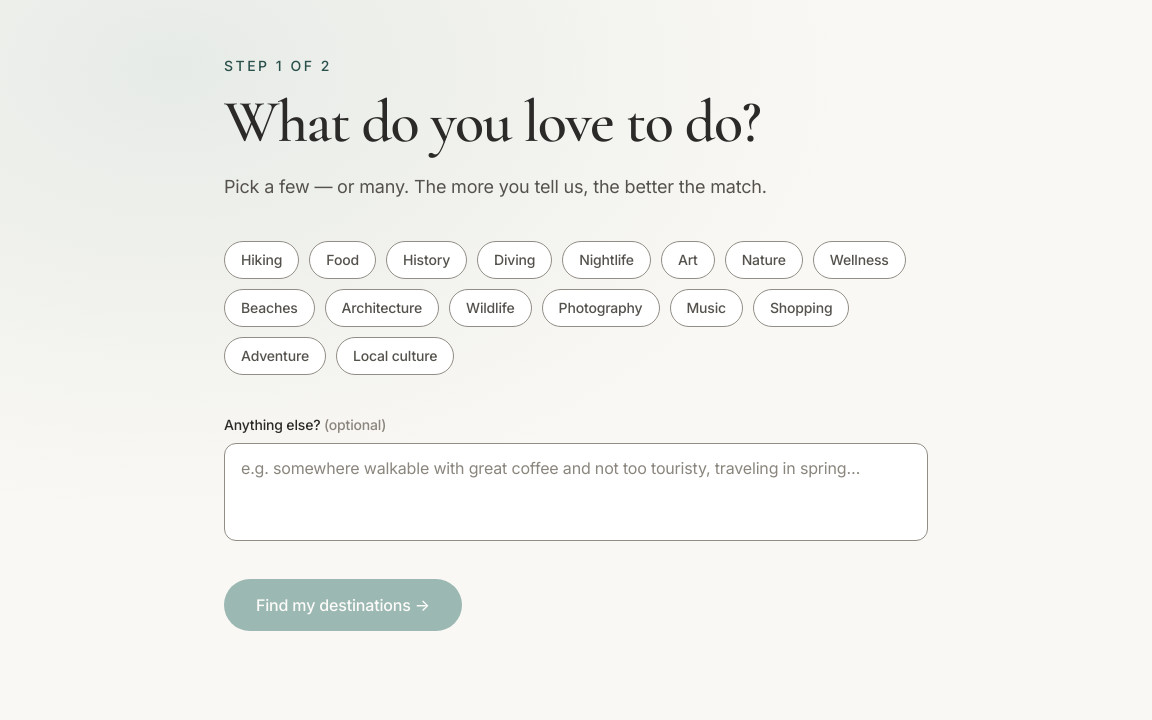
Scenario: DiscoverPage (extended) › maps a 503 to the service-unavailable message and does not navigate
Click the button "Food" at (343, 260), box [309,241,376,279]
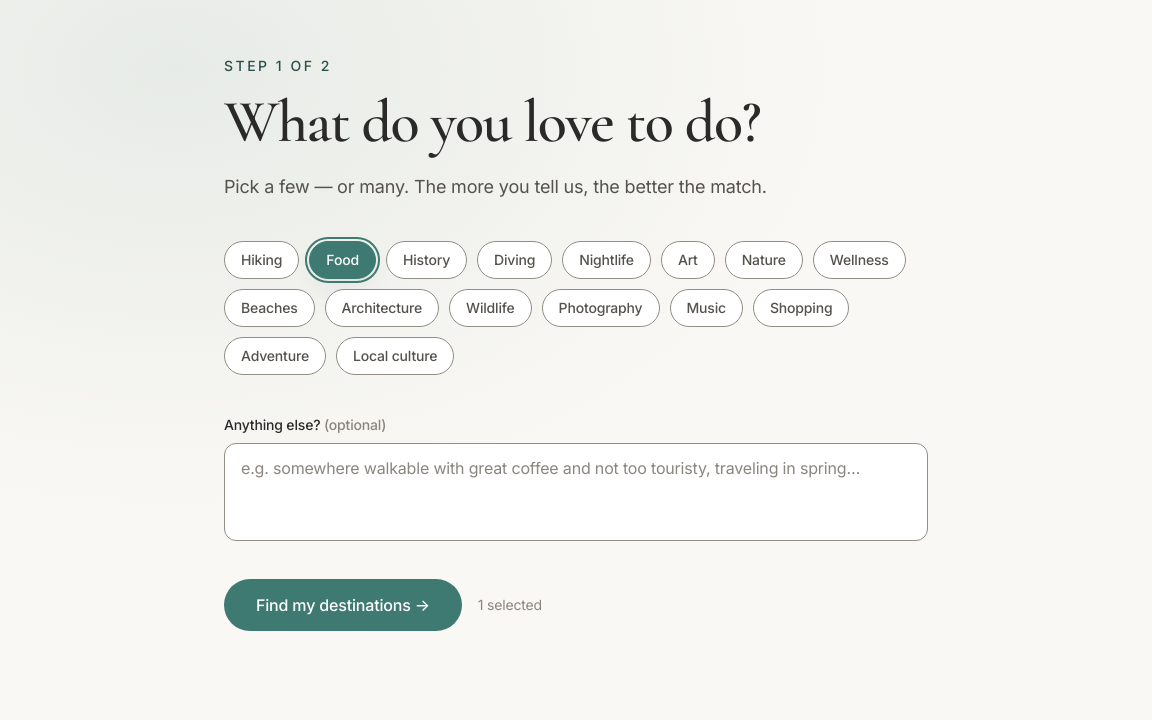
Click the button "Find my destinations →" at (343, 605), box [224,579,462,631]
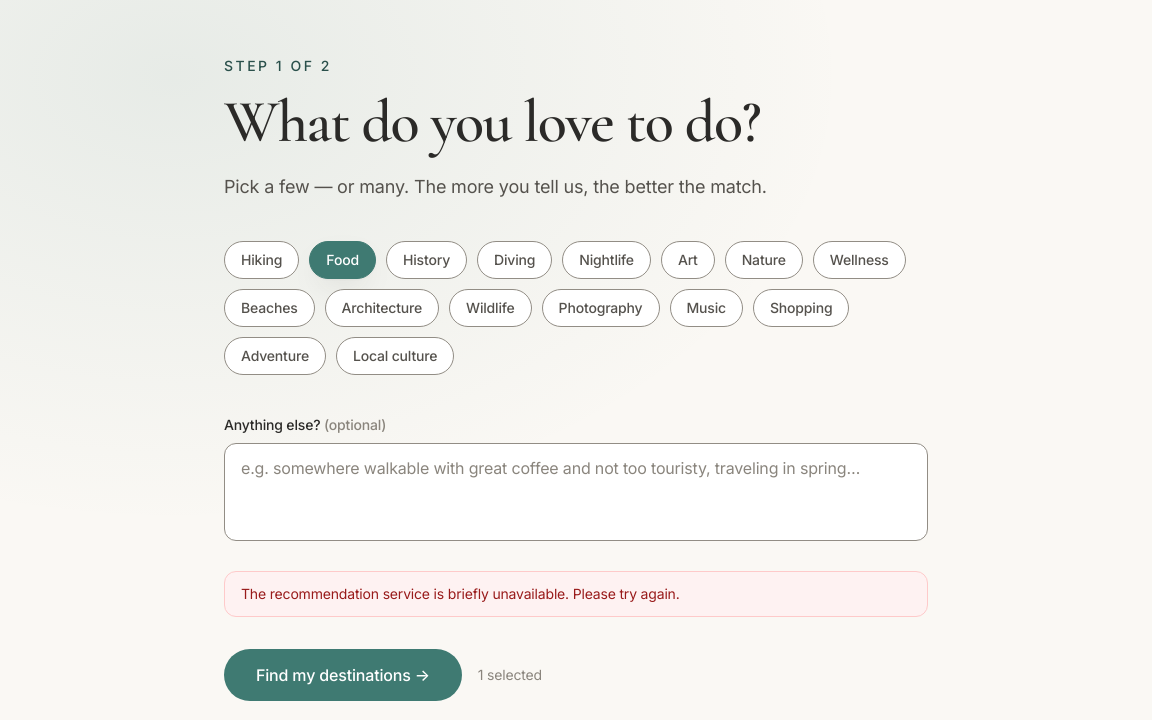
Now the message shows "briefly unavailable", box [241,585,680,602]
